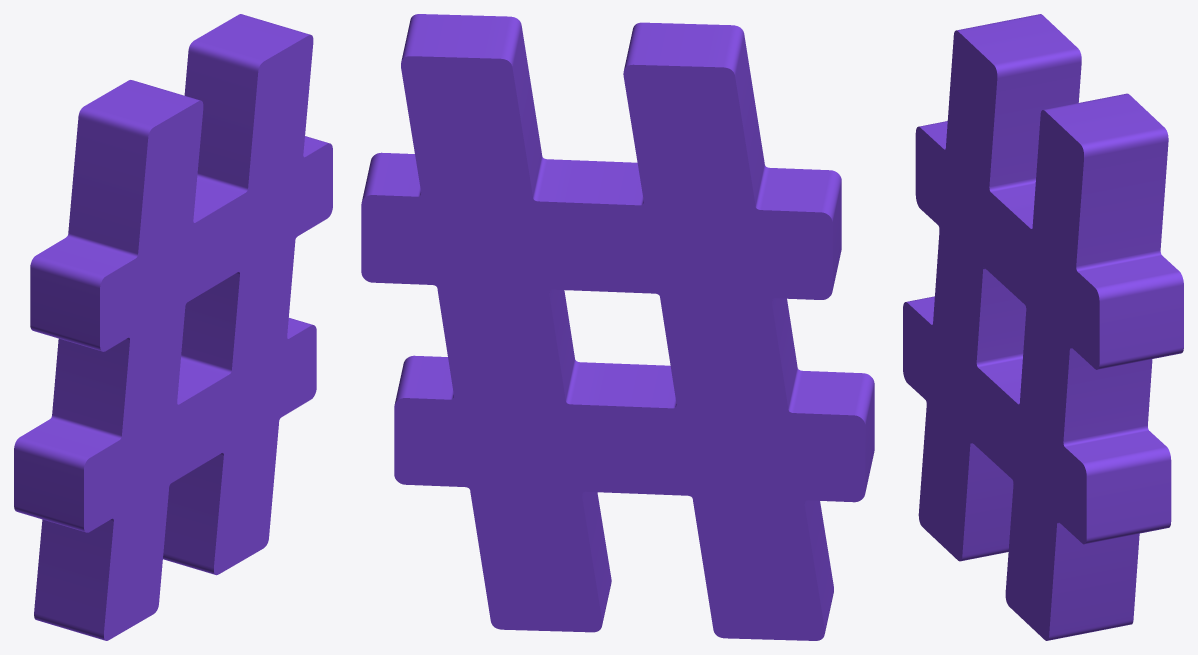
File: hashnew.glb
3 views of the same model, side by side, from view 1: azimuth 30°, elevation 25°; view 2: azimuth 150°, elevation 25°; view 3: azimuth 270°, elevation 25° (orthographic). The views are drawn at different scales.
Parts seen in each view (by area): view 1: Text.002; view 2: Text.002; view 3: Text.002.
Part boxes in pixels (x1=…): Text.002: x1=14, y1=14, x2=332, y2=640; Text.002: x1=361, y1=14, x2=874, y2=640; Text.002: x1=903, y1=14, x2=1183, y2=640.
Size of the model in its own units: 0.4002 by 0.5027 by 0.2418.
